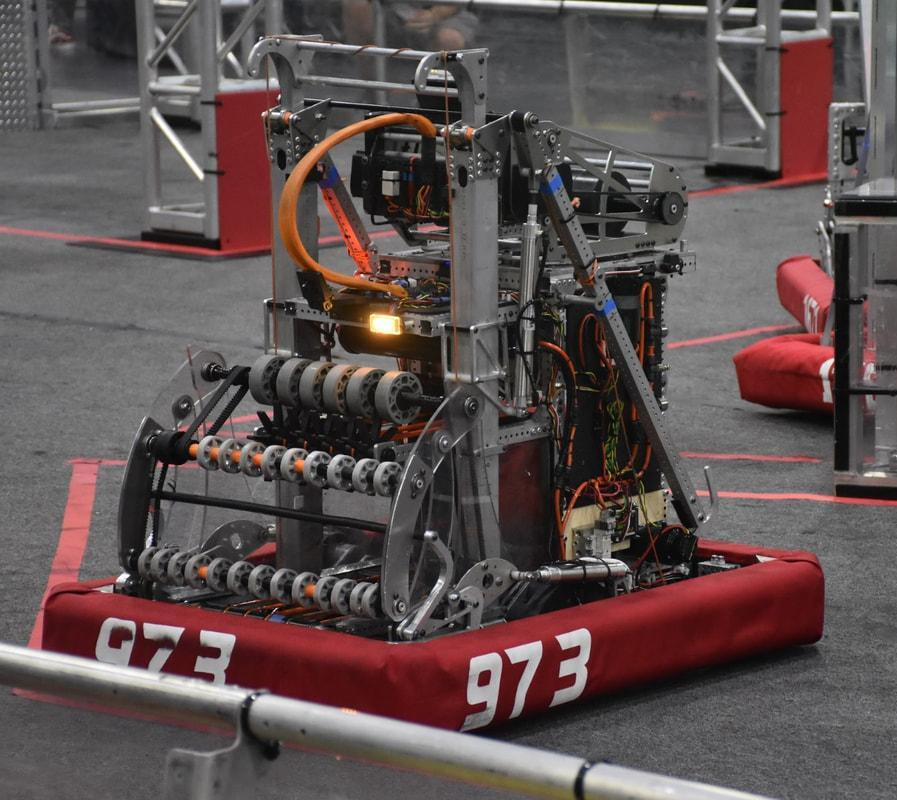robot: (36, 26, 831, 741), (769, 160, 897, 336), (736, 302, 897, 422)
